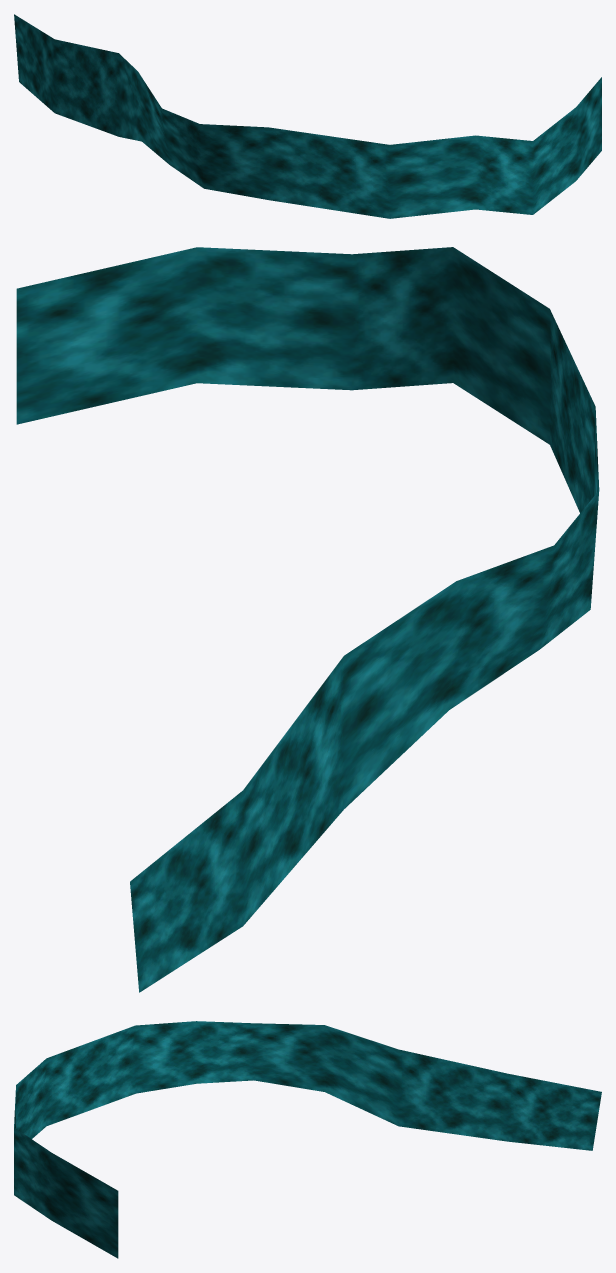
The model's file is MIRKWOOD_FOGH01.fbx.
3 views of the same model, one above another, from view 1: azimuth 30°, elevation 25°; view 2: azimuth 150°, elevation 25°; view 3: azimuth 270°, elevation 25° (orthographic). The views are drawn at different scales.
Parts seen in each view (by area): view 1: MIRKWOOD_FOGH01; view 2: MIRKWOOD_FOGH01; view 3: MIRKWOOD_FOGH01.
Part boxes in pixels (x1,y1,x2,y2): MIRKWOOD_FOGH01: [14, 14, 601, 218]; MIRKWOOD_FOGH01: [16, 247, 599, 992]; MIRKWOOD_FOGH01: [14, 1021, 601, 1258].
Bounding box in the file's own units: 497894 × 183676 × 753471.
Materials: 1 (1 with a texture image).
